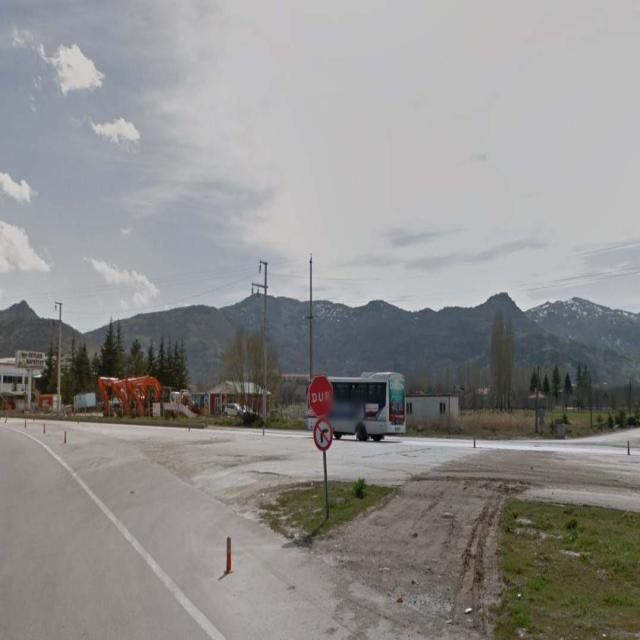dur: (310, 373, 332, 416)
sagadonulmez: (314, 421, 331, 451)
